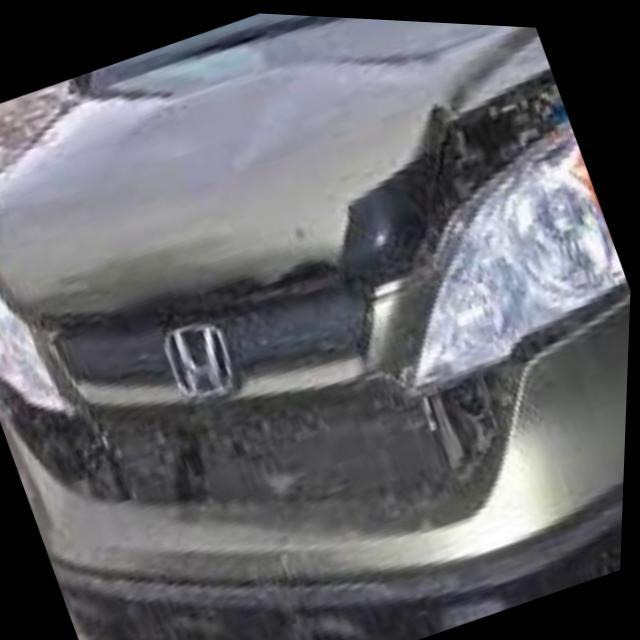dislocated part: (331, 21, 571, 299)
